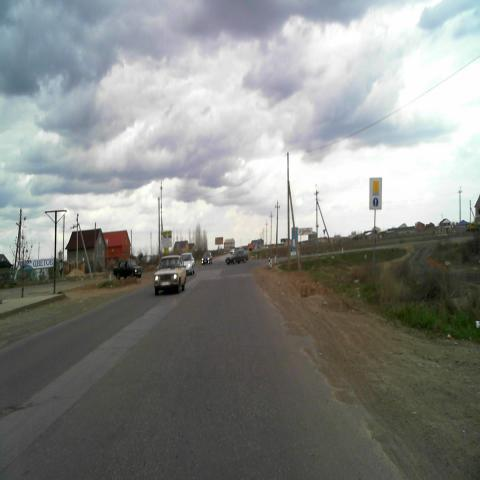4_8_2: (370, 177, 382, 209)
